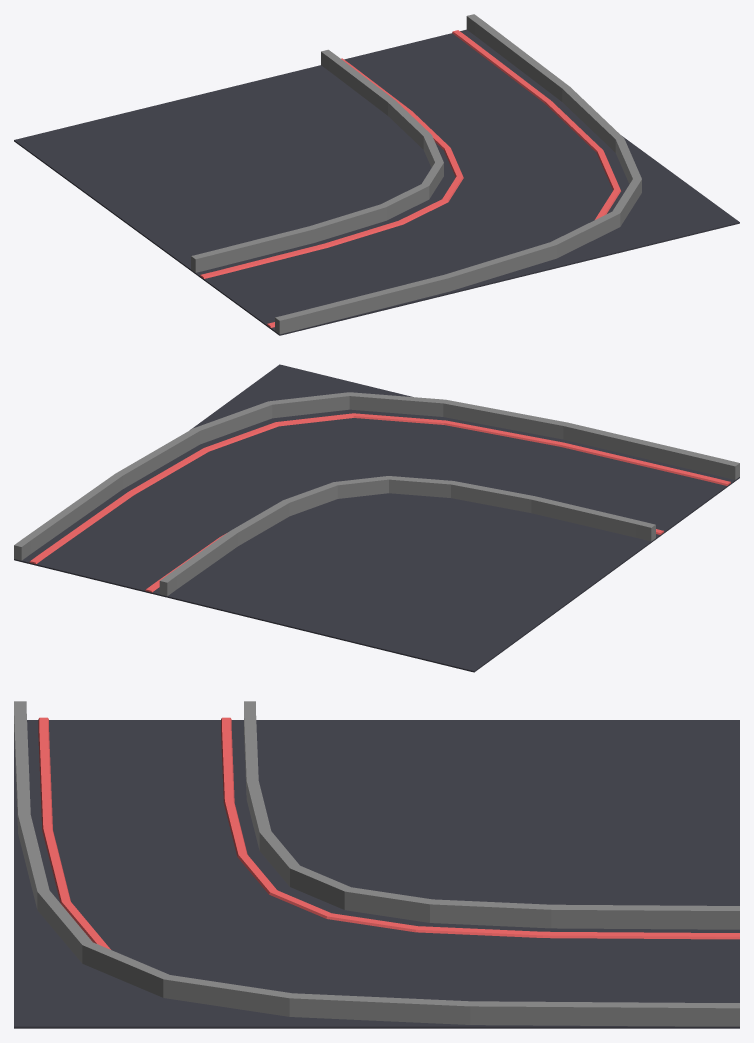
Rendered from kartkids_base_trk_110_trn_widest_r_3x3.glb.
The picture shows the model from 3 angles, top to bottom: view 1: azimuth 30°, elevation 25°; view 2: azimuth 150°, elevation 25°; view 3: azimuth 270°, elevation 25°; orthographic projection. The views are drawn at different scales.
Parts seen in each view (by area): view 1: kartkids_base_trk_010_rd_straight_1x1.026, kartkids_base_trk_020_trn_90_l_1x1.027, kartkids_base_trk_020_trn_90_l_1x1.029, kartkids_base_trk_020_trn_90_l_1x1.028; view 2: kartkids_base_trk_010_rd_straight_1x1.026, kartkids_base_trk_020_trn_90_l_1x1.027, kartkids_base_trk_020_trn_90_l_1x1.029, kartkids_base_trk_020_trn_90_l_1x1.028; view 3: kartkids_base_trk_010_rd_straight_1x1.026, kartkids_base_trk_020_trn_90_l_1x1.027, kartkids_base_trk_020_trn_90_l_1x1.029, kartkids_base_trk_020_trn_90_l_1x1.028.
Part boxes in pixels (x1=…): kartkids_base_trk_010_rd_straight_1x1.026: x1=14, y1=29, x2=739, y2=335; kartkids_base_trk_020_trn_90_l_1x1.027: x1=275, y1=14, x2=641, y2=334; kartkids_base_trk_020_trn_90_l_1x1.029: x1=191, y1=49, x2=443, y2=272; kartkids_base_trk_020_trn_90_l_1x1.028: x1=200, y1=30, x2=620, y2=327; kartkids_base_trk_010_rd_straight_1x1.026: x1=14, y1=364, x2=739, y2=672; kartkids_base_trk_020_trn_90_l_1x1.027: x1=14, y1=392, x2=739, y2=560; kartkids_base_trk_020_trn_90_l_1x1.029: x1=159, y1=476, x2=655, y2=596; kartkids_base_trk_020_trn_90_l_1x1.028: x1=29, y1=413, x2=730, y2=592; kartkids_base_trk_010_rd_straight_1x1.026: x1=14, y1=720, x2=739, y2=1028; kartkids_base_trk_020_trn_90_l_1x1.027: x1=14, y1=701, x2=739, y2=1026; kartkids_base_trk_020_trn_90_l_1x1.029: x1=244, y1=701, x2=739, y2=929; kartkids_base_trk_020_trn_90_l_1x1.028: x1=38, y1=717, x2=739, y2=949.
Bounding box in the file's own units: 30 × 0.9339 × 30.
